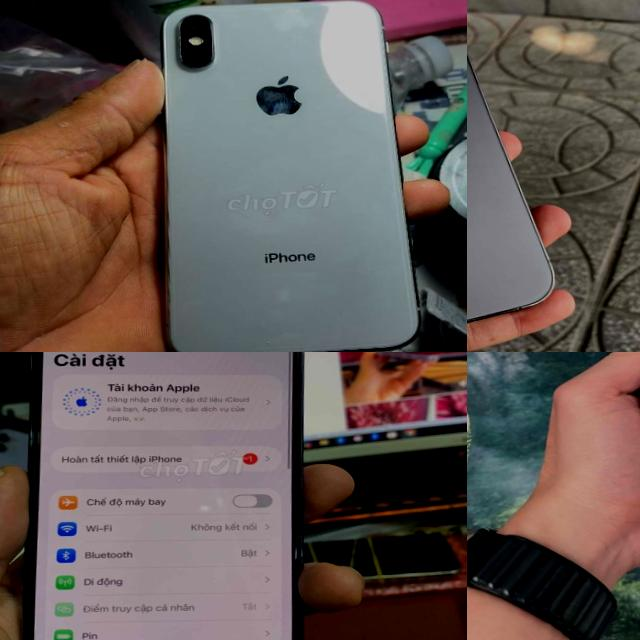gen_14: (6, 352, 321, 640), (467, 0, 563, 352)
gen_x_xs: (152, 0, 427, 352)
scratch: (257, 335, 278, 350)
